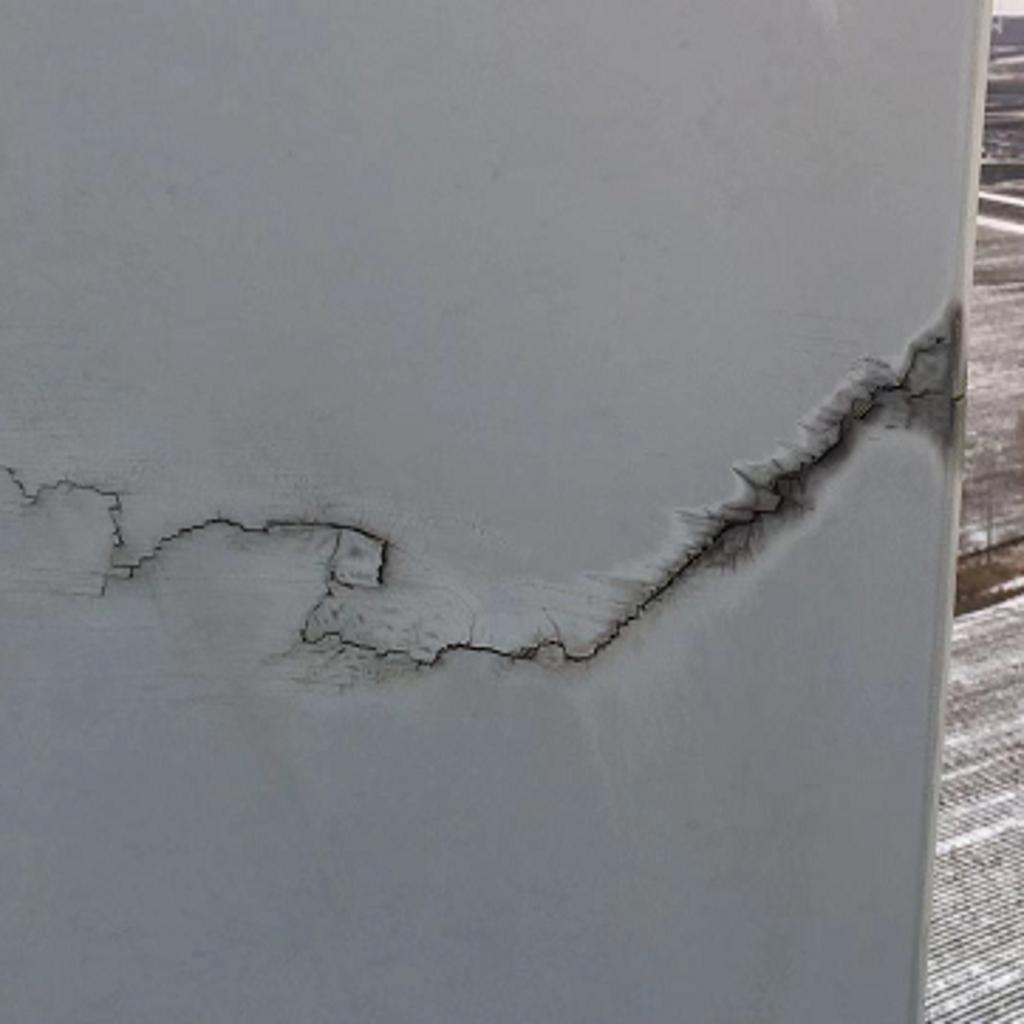craze: (3, 349, 934, 681)
